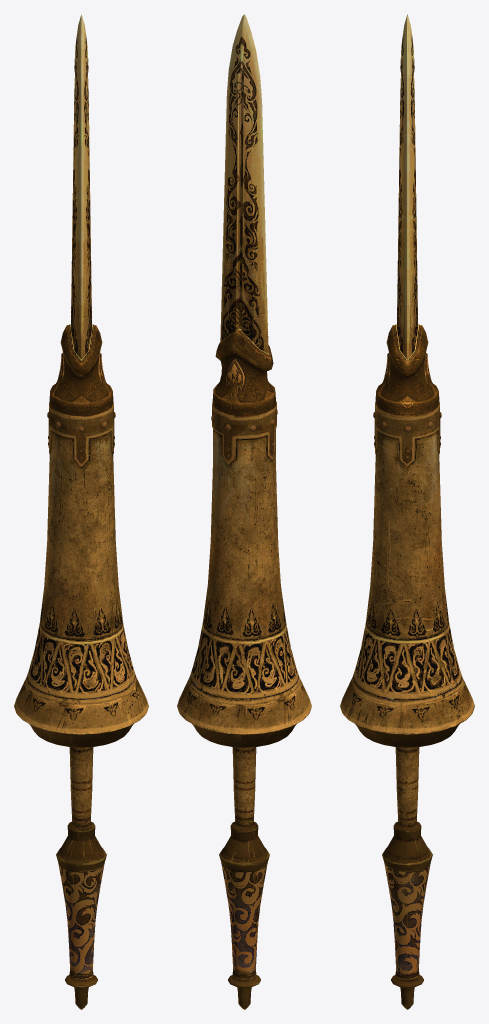
The model's file is bs_lan007.obj.
3 views of the same model, side by side, from view 1: azimuth 90°, elevation 25°; view 2: azimuth 150°, elevation 25°; view 3: azimuth 270°, elevation 25° (orthographic).
Parts seen in each view (by area): view 1: bs_lan007_001_LOD_1, bs_lan007_000_LOD_1, bs_lan007_002_LOD_1, bs_lan007_003_LOD_1; view 2: bs_lan007_001_LOD_1, bs_lan007_002_LOD_1, bs_lan007_000_LOD_1, bs_lan007_003_LOD_1; view 3: bs_lan007_001_LOD_1, bs_lan007_000_LOD_1, bs_lan007_002_LOD_1, bs_lan007_003_LOD_1.
Part boxes in pixels (x1,y1,x2,y2): bs_lan007_001_LOD_1: [14, 403, 148, 747]; bs_lan007_000_LOD_1: [56, 747, 106, 1009]; bs_lan007_002_LOD_1: [71, 14, 91, 359]; bs_lan007_003_LOD_1: [49, 324, 113, 416]; bs_lan007_001_LOD_1: [177, 401, 311, 747]; bs_lan007_002_LOD_1: [220, 14, 268, 353]; bs_lan007_000_LOD_1: [219, 747, 269, 1009]; bs_lan007_003_LOD_1: [212, 326, 276, 415]; bs_lan007_001_LOD_1: [340, 403, 474, 747]; bs_lan007_000_LOD_1: [382, 747, 432, 1009]; bs_lan007_002_LOD_1: [397, 14, 417, 359]; bs_lan007_003_LOD_1: [375, 324, 439, 416].
Bounding box in the file's own units: 45.26 × 369 × 45.26.
